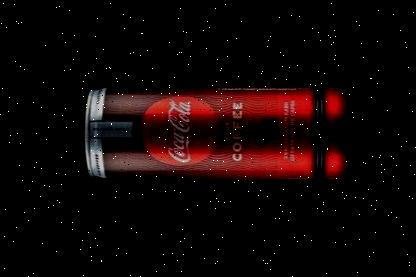Can: (80, 83, 324, 180)
